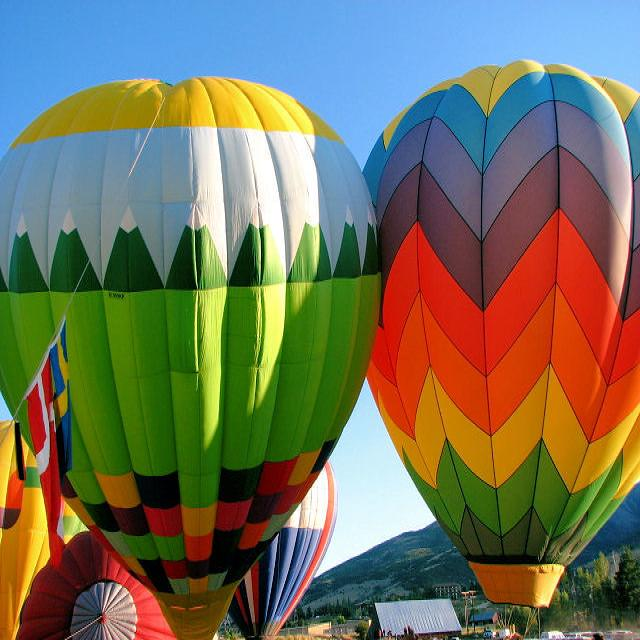balloon: (1, 75, 383, 639), (362, 59, 640, 611)
